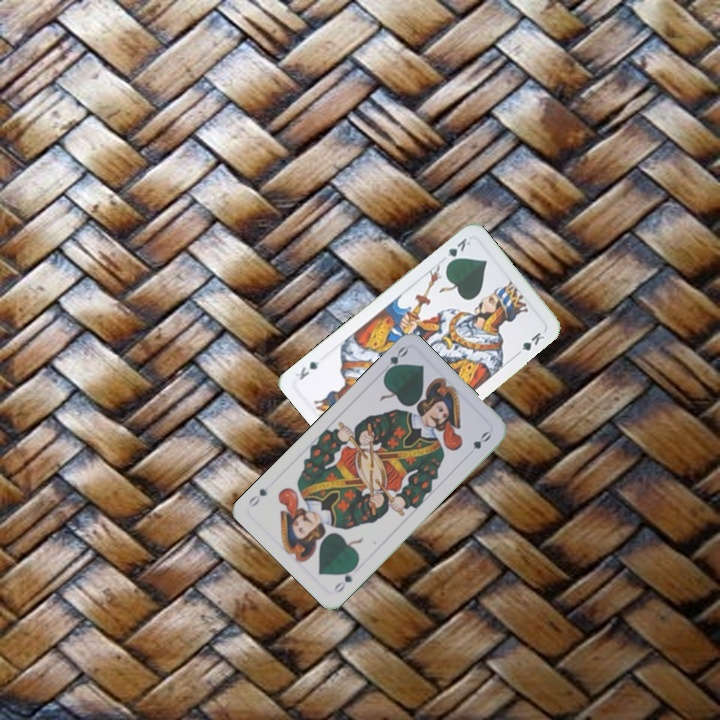GK: (442, 233, 473, 268)
GO: (377, 342, 410, 378), (330, 561, 359, 596)
